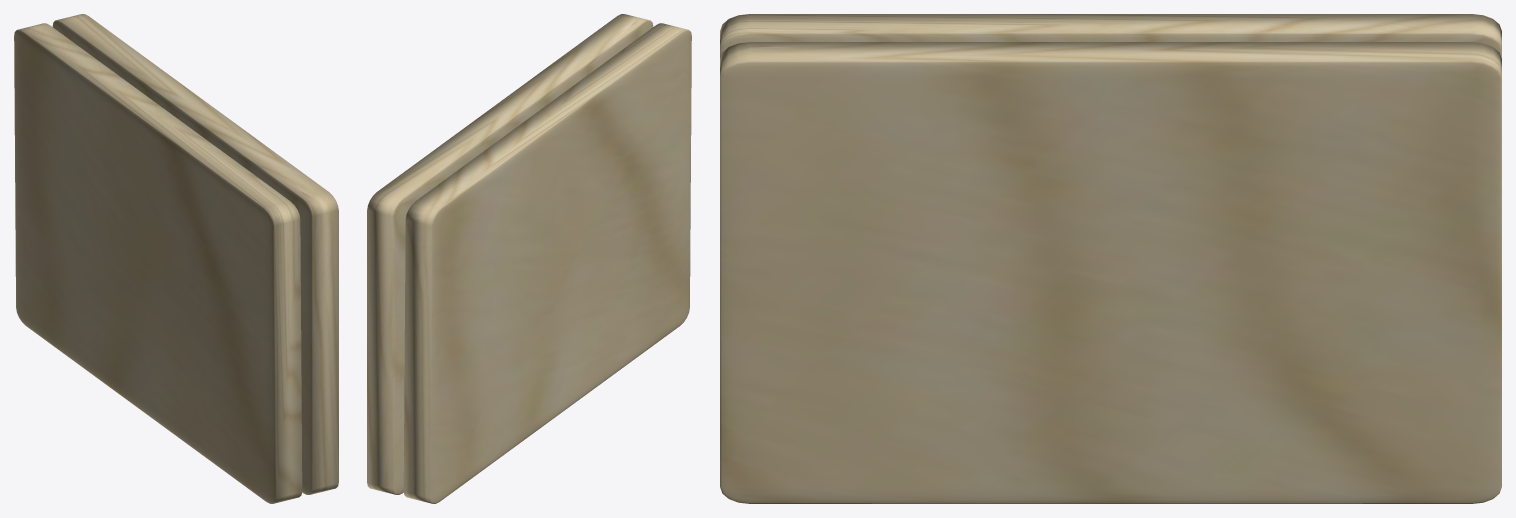
Rendered from plastic-clip.glb.
3 views of the same model, side by side, from view 1: azimuth 30°, elevation 25°; view 2: azimuth 150°, elevation 25°; view 3: azimuth 270°, elevation 25° (orthographic). The views are drawn at different scales.
Parts seen in each view (by area): view 1: Cube.001; view 2: Cube.001; view 3: Cube.001.
Part boxes in pixels (bbox=[...]): Cube.001: bbox=[14, 14, 338, 503]; Cube.001: bbox=[367, 14, 691, 503]; Cube.001: bbox=[720, 14, 1501, 503].
Size of the model in its own units: 0.0655 by 0.2769 by 0.4428.
Materials: 2 (2 with a texture image).
